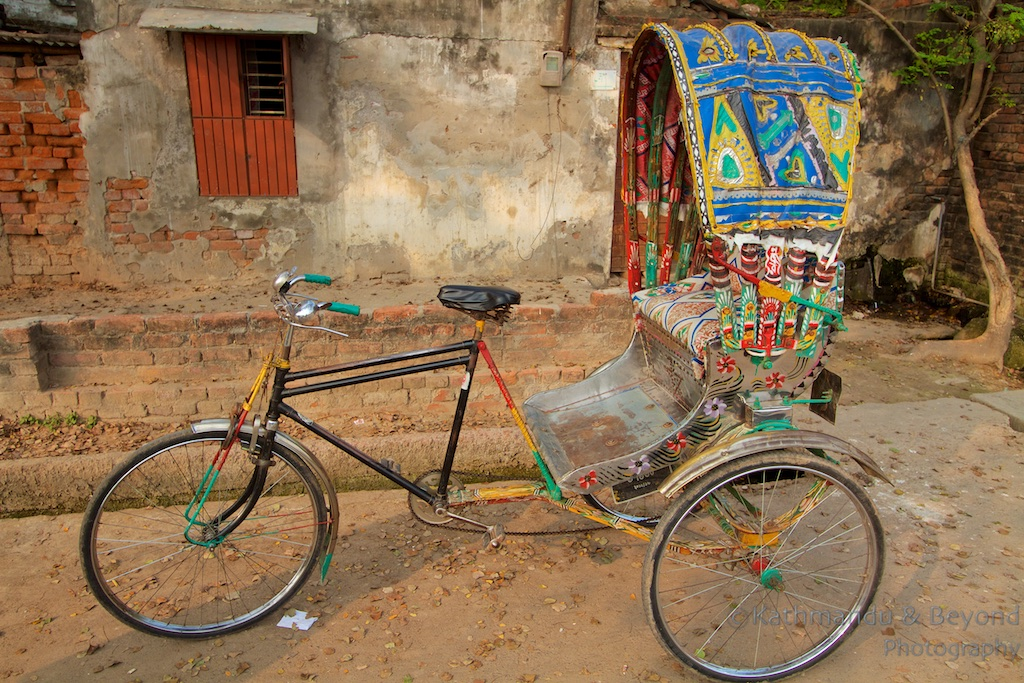Rickshaw: (89, 24, 876, 665)
